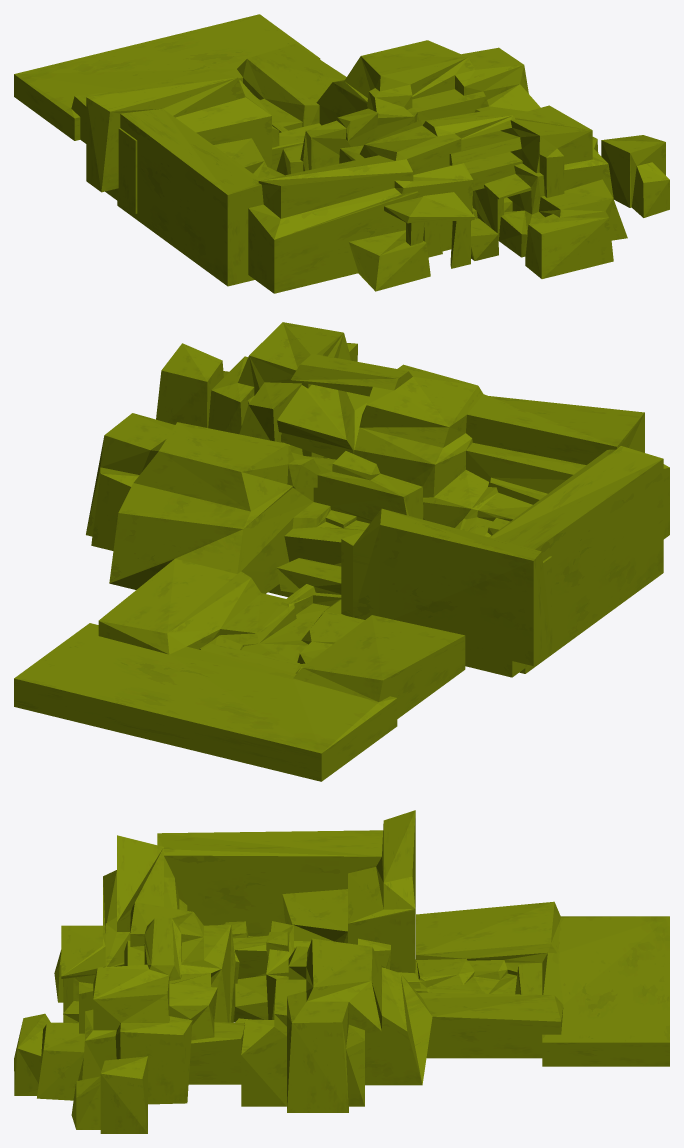
Rendered from world.glb.
3 renders of one model, top to bottom at view 1: azimuth 30°, elevation 25°; view 2: azimuth 150°, elevation 25°; view 3: azimuth 270°, elevation 25°, orthographic. The views are drawn at different scales.
Parts seen in each view (by area): view 1: Terrain2; view 2: Terrain2; view 3: Terrain2.
Boxes of the visible parts, x1,y1,x2,y2 form: Terrain2: [14, 14, 669, 293]; Terrain2: [14, 322, 669, 781]; Terrain2: [14, 810, 669, 1133].
Size of the model in its own units: 147 by 41.54 by 185.
1 material, 1 textured.
